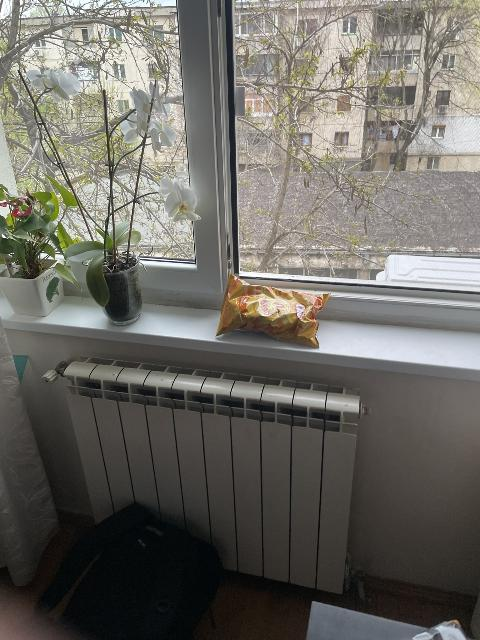Chio Hula Hoops Cheese 70g: (217, 274, 330, 344)
